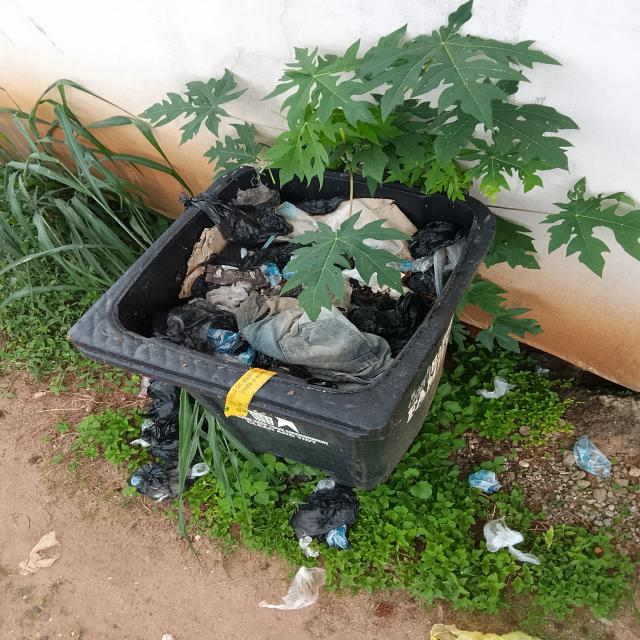full: (73, 156, 511, 429)
